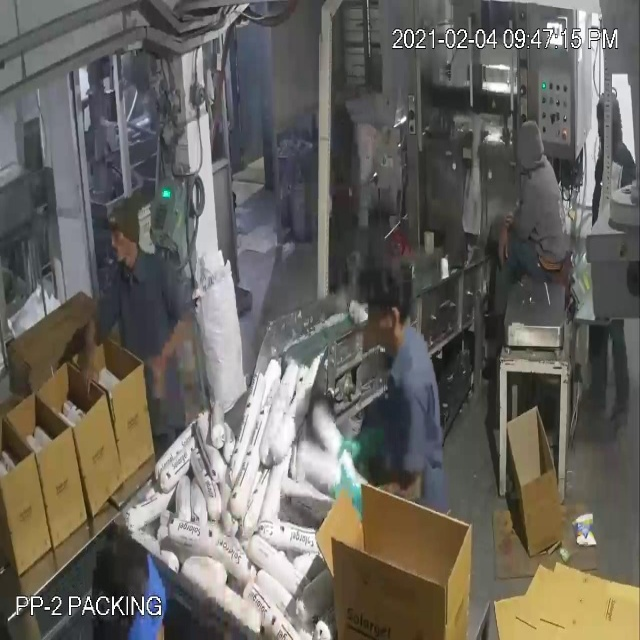Guantes: (331, 424, 396, 469)
Sin_guantes: (149, 308, 193, 404), (74, 301, 110, 401)
